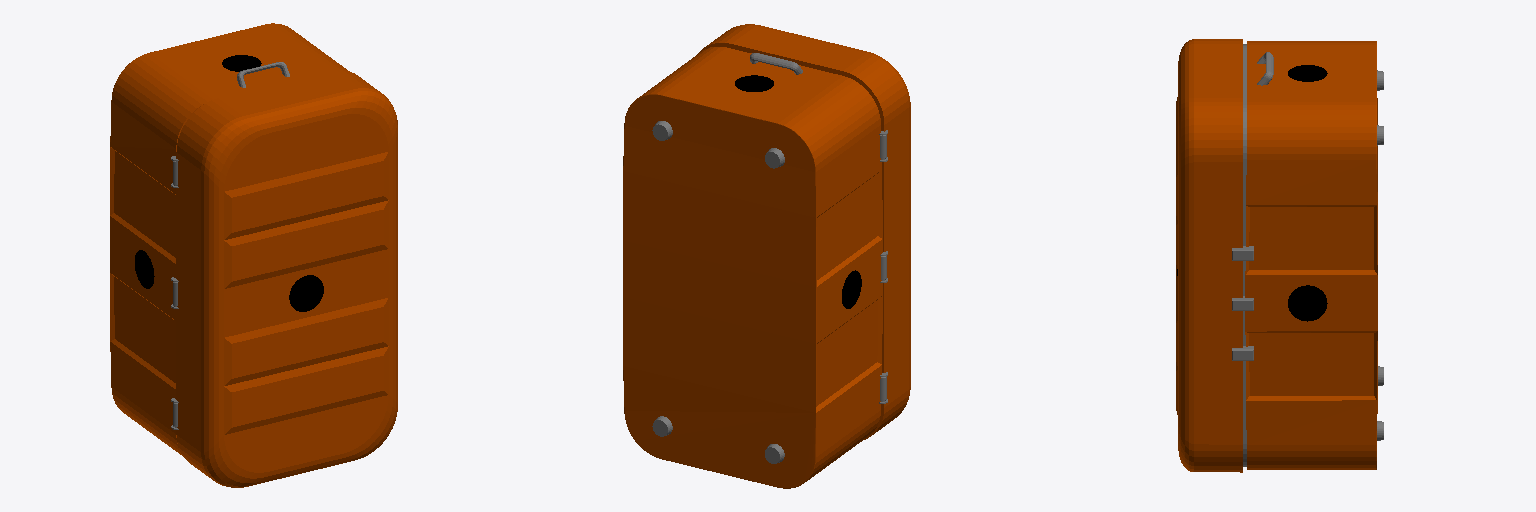
Rendered from radiactive_case.obj.
3 views of the same model, side by side, from view 1: azimuth 30°, elevation 25°; view 2: azimuth 150°, elevation 25°; view 3: azimuth 270°, elevation 25° (orthographic).
Visible parts, largest first — view 1: Cube; view 2: Cube; view 3: Cube.
Boxes of the visible parts, box(x1,y1,x2,y2) form: Cube: box(110, 23, 397, 487); Cube: box(623, 24, 910, 488); Cube: box(1176, 39, 1383, 472).
Bounding box in the file's own units: 51.12 × 93.16 × 45.35.